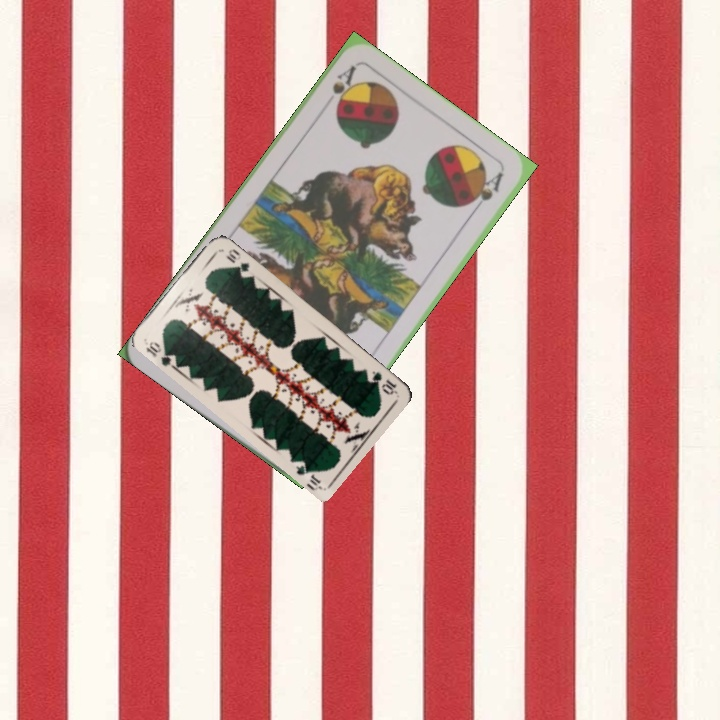G10: (142, 337, 179, 369), (368, 367, 399, 397)
SA: (328, 61, 359, 113)
